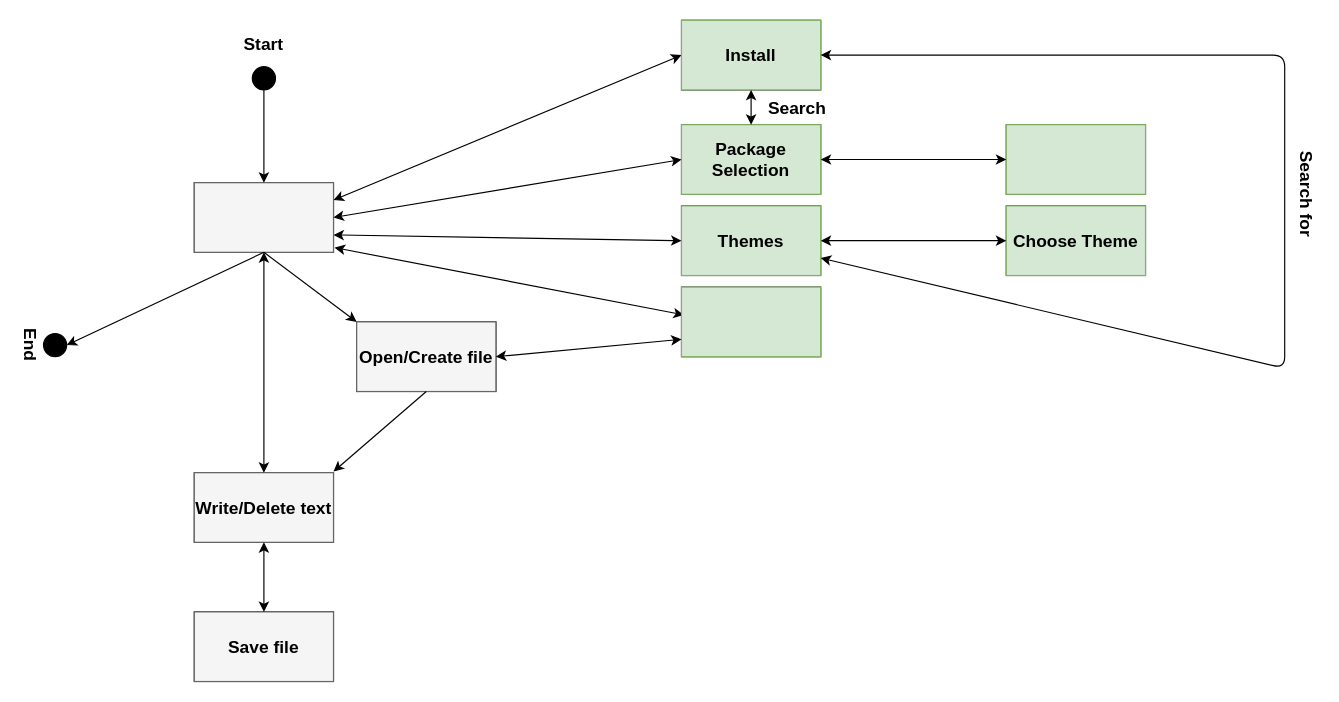
Some shapes in this 1339 by 702 pixel diagram are drawn without their labels. Each missing label, with the centre of its shape:
GUI: the point at 263,217
Installed Packages: the point at 1075,159
Settings: the point at 750,321
